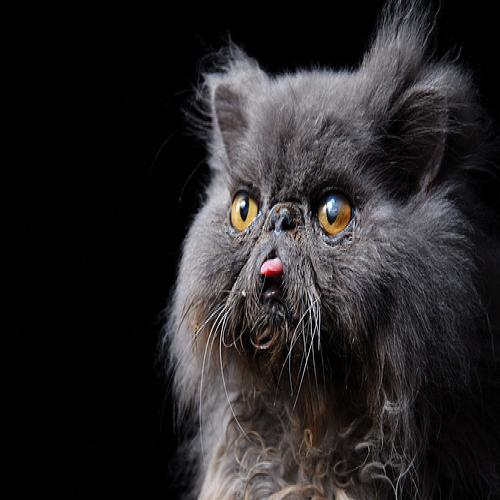persian: (171, 18, 463, 422)
